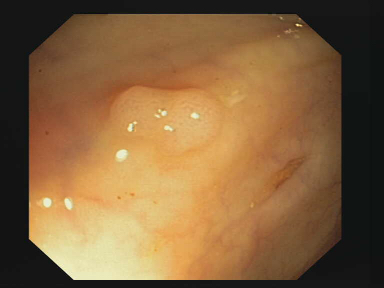polyp: (110, 83, 223, 149)
